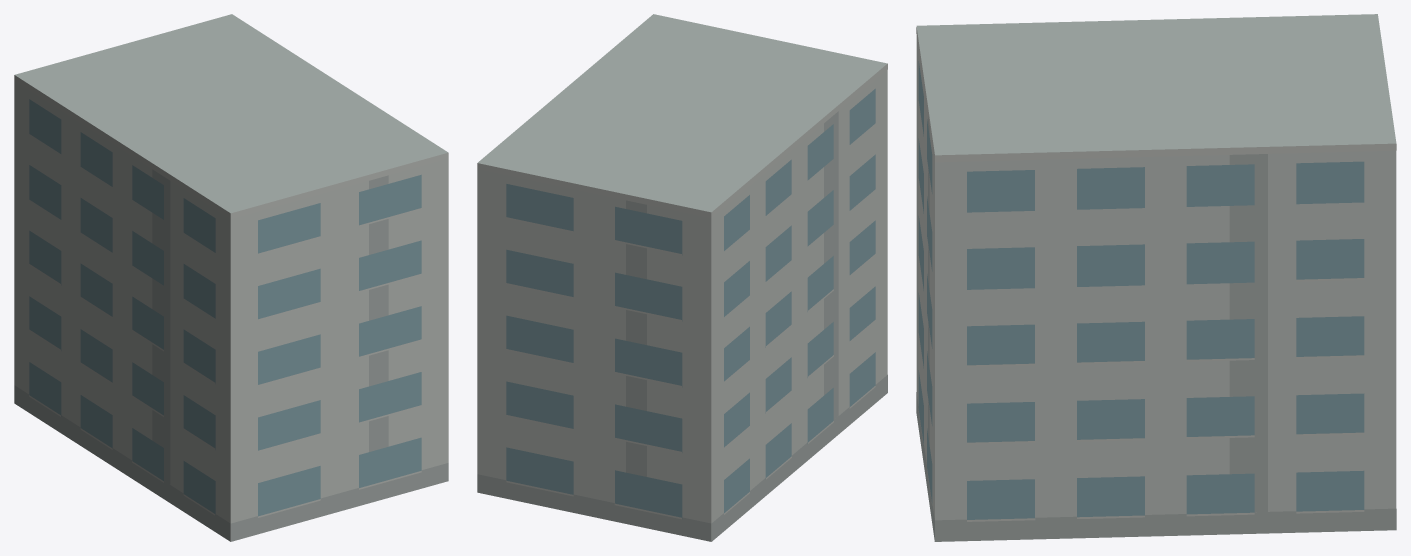
Rendered from survey-upis-33040022.glb.
3 views of the same model, side by side, from view 1: azimuth 30°, elevation 25°; view 2: azimuth 150°, elevation 25°; view 3: azimuth 270°, elevation 25° (orthographic). The views are drawn at different scales.
Parts seen in each view (by area): view 1: survey-upis-33040022.tmp; view 2: survey-upis-33040022.tmp; view 3: survey-upis-33040022.tmp.
Part boxes in pixels (x1,y1,x2,y2): survey-upis-33040022.tmp: [14, 14, 448, 541]; survey-upis-33040022.tmp: [477, 14, 887, 541]; survey-upis-33040022.tmp: [916, 14, 1396, 541].
Bounding box in the file's own units: 10.43 × 13.3 × 14.98.
